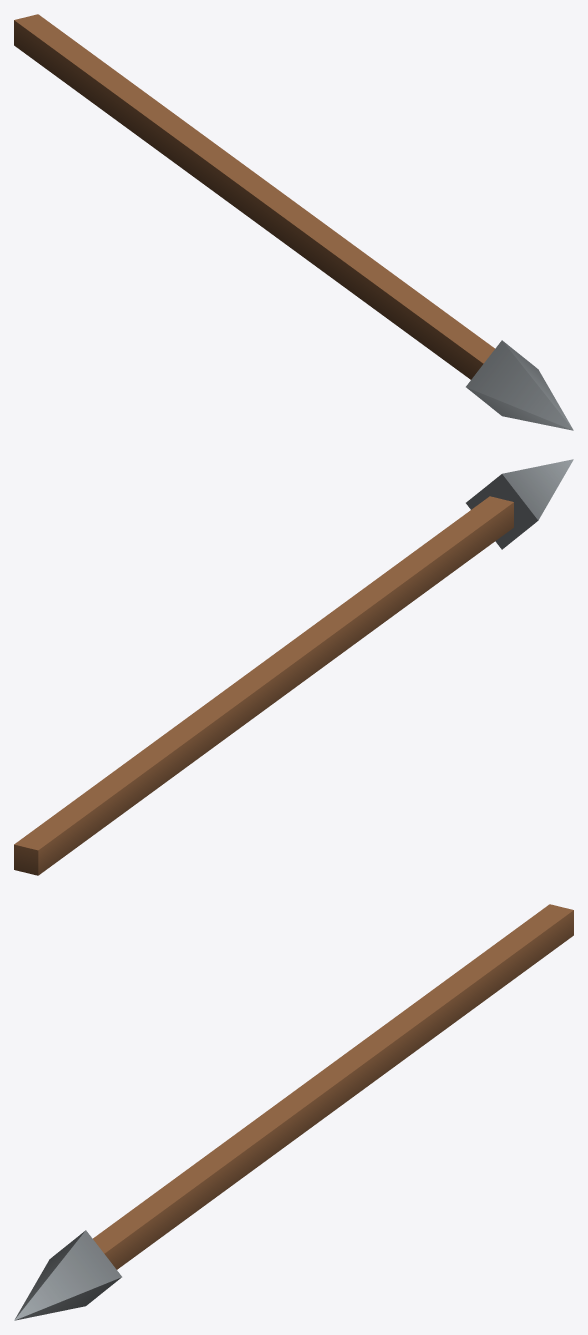
File: javelin.glb
3 renders of one model, top to bottom at view 1: azimuth 30°, elevation 25°; view 2: azimuth 150°, elevation 25°; view 3: azimuth 330°, elevation 25°, orthographic.
Parts seen in each view (by area): view 1: javelin; view 2: javelin; view 3: javelin.
Boxes of the visible parts, x1,y1,x2,y2 form: javelin: (14,14,573,430); javelin: (14,459,573,875); javelin: (14,904,573,1320).
Bounding box in the file's own units: 0.105 × 0.105 × 1.37.
1 material, 1 textured.
